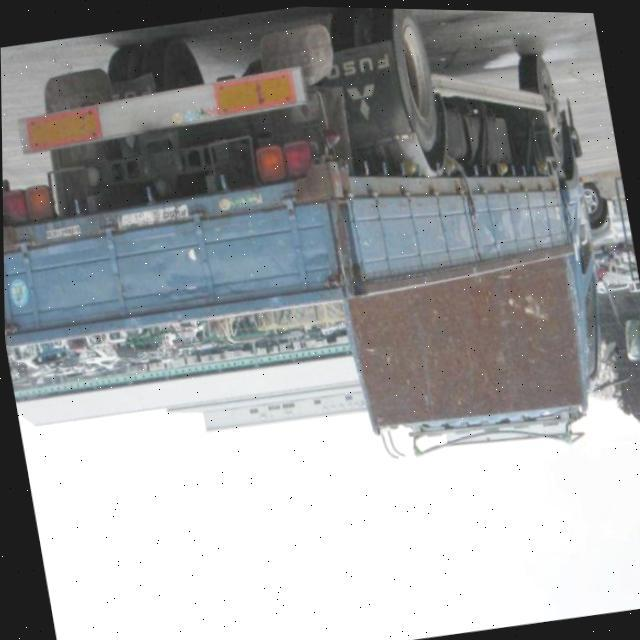truck: (0, 0, 633, 521)
